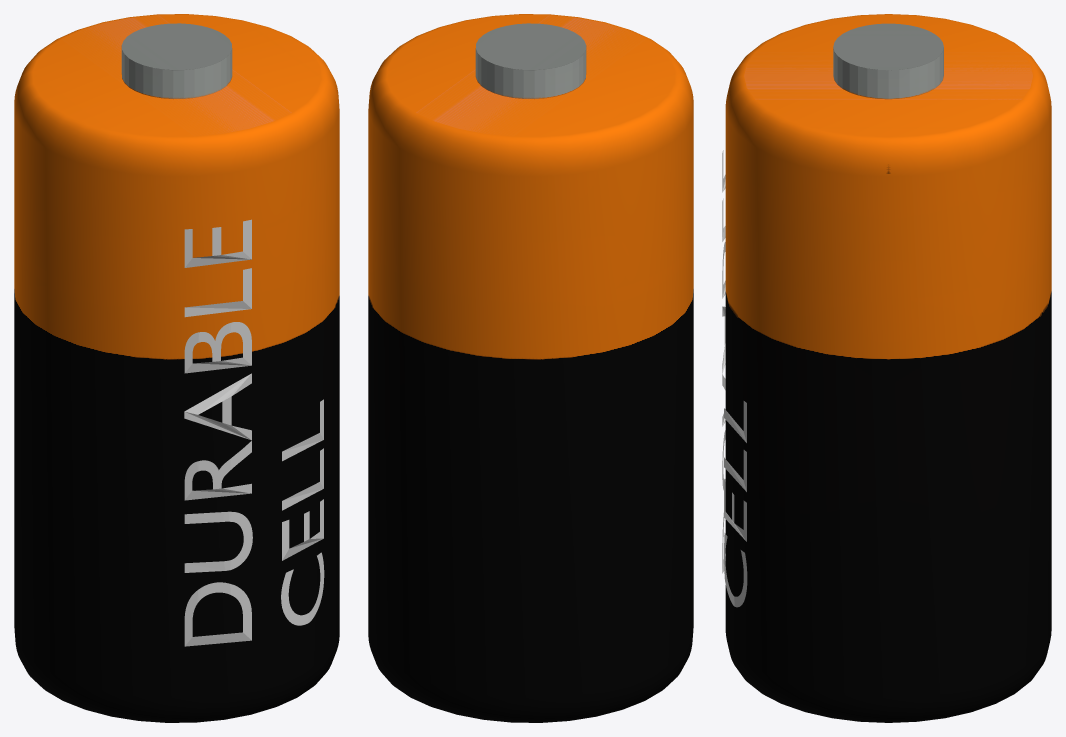
File: battery.fbx
The picture shows the model from 3 angles, left to right: view 1: azimuth 30°, elevation 25°; view 2: azimuth 150°, elevation 25°; view 3: azimuth 270°, elevation 25°; orthographic projection.
Parts seen in each view (by area): view 1: Cylinder, Text; view 2: Cylinder; view 3: Cylinder, Text.
Boxes of the visible parts, x1,y1,x2,y2 form: Cylinder: [14, 14, 339, 722]; Text: [184, 219, 324, 646]; Cylinder: [368, 14, 693, 722]; Cylinder: [725, 14, 1051, 722]; Text: [722, 150, 747, 607].
Size of the model in its own units: 87.49 by 182 by 88.36.
1 material, 1 textured.
